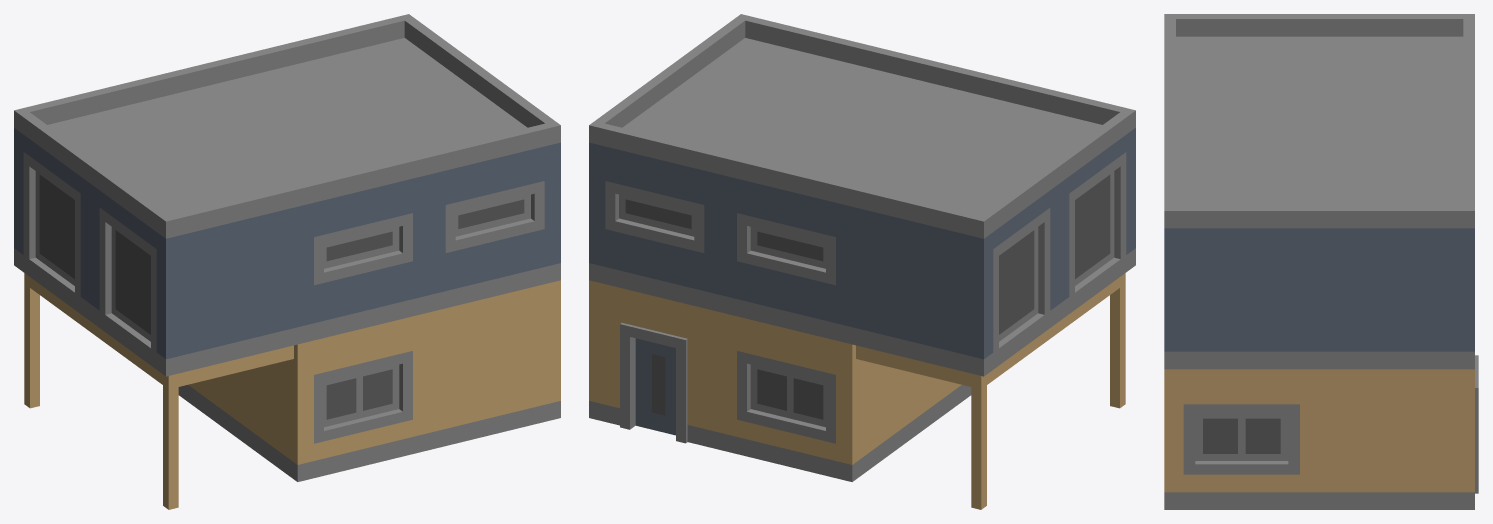
Rendered from SM_Suburb_House_019.fbx.
The picture shows the model from 3 angles, left to right: view 1: azimuth 30°, elevation 25°; view 2: azimuth 150°, elevation 25°; view 3: azimuth 270°, elevation 25°; orthographic projection. The views are drawn at different scales.
Visible parts, largest first — view 1: SM_Suburb_House_019; view 2: SM_Suburb_House_019; view 3: SM_Suburb_House_019.
Boxes of the visible parts, x1=… form: SM_Suburb_House_019: x1=14, y1=14, x2=560, y2=509; SM_Suburb_House_019: x1=589, y1=14, x2=1135, y2=509; SM_Suburb_House_019: x1=1164, y1=14, x2=1478, y2=509.
Size of the model in its own units: 864 by 612 by 583.
